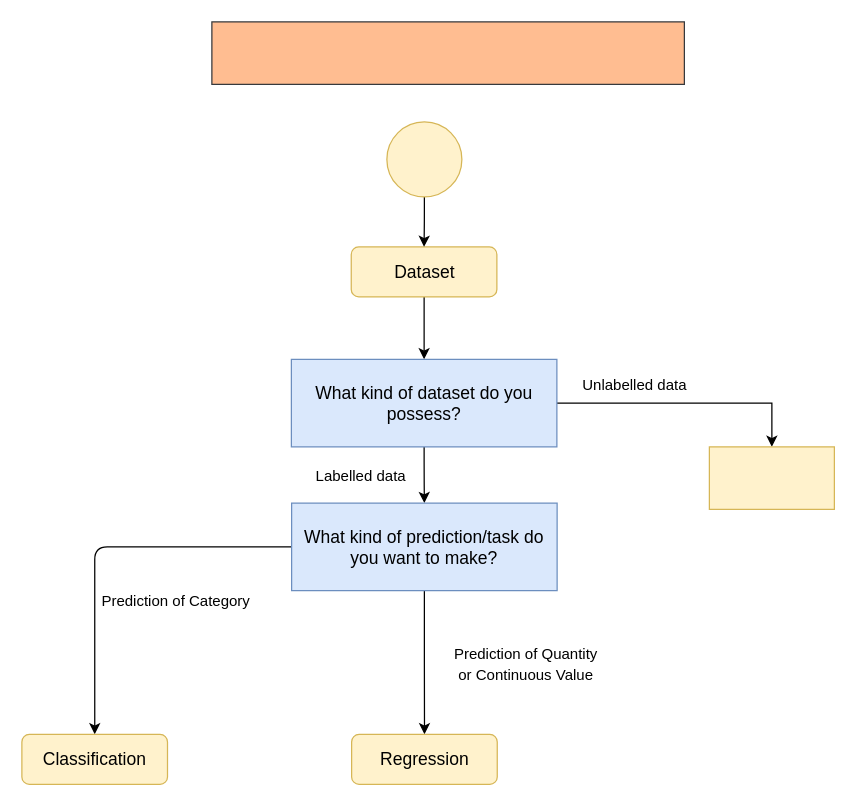
The diagram is 856 pixels wide and 806 high, and some of its shapes have lost their labels. The box of each missing label's shape, as (x1, y1, x2, y2) in pixels:
CHURN PREDICTION: (211, 21, 684, 84)
Clustering: (708, 446, 834, 509)
Start: (386, 121, 462, 197)
